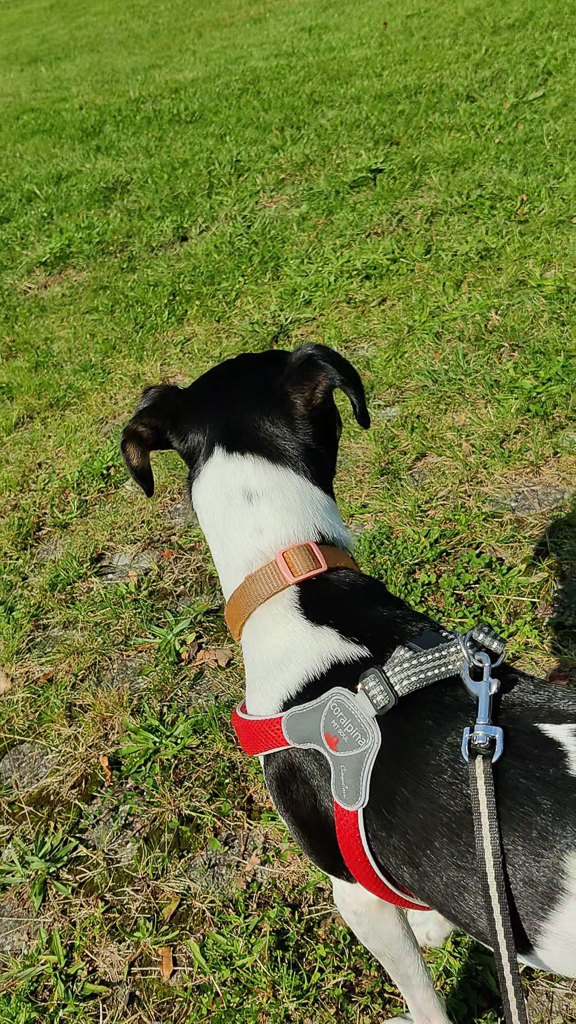Dog: (96, 326, 576, 1024)
